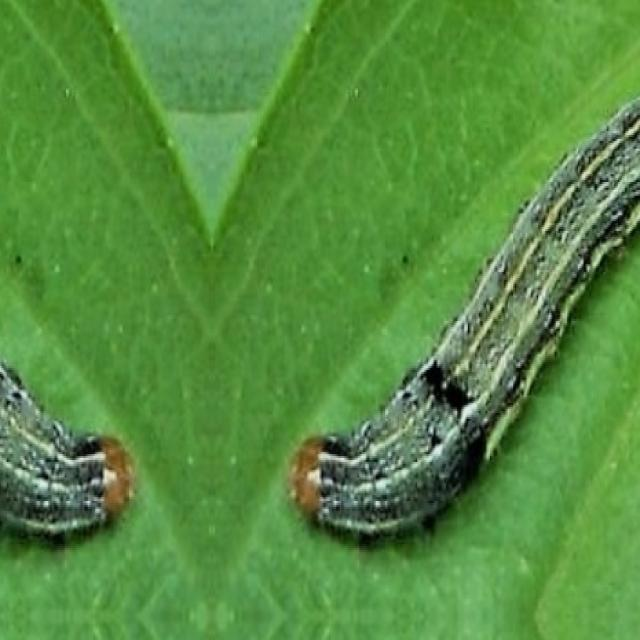armyworm: (292, 94, 640, 558), (0, 350, 141, 555)
